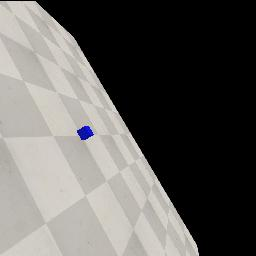box: (77, 126, 94, 140)
